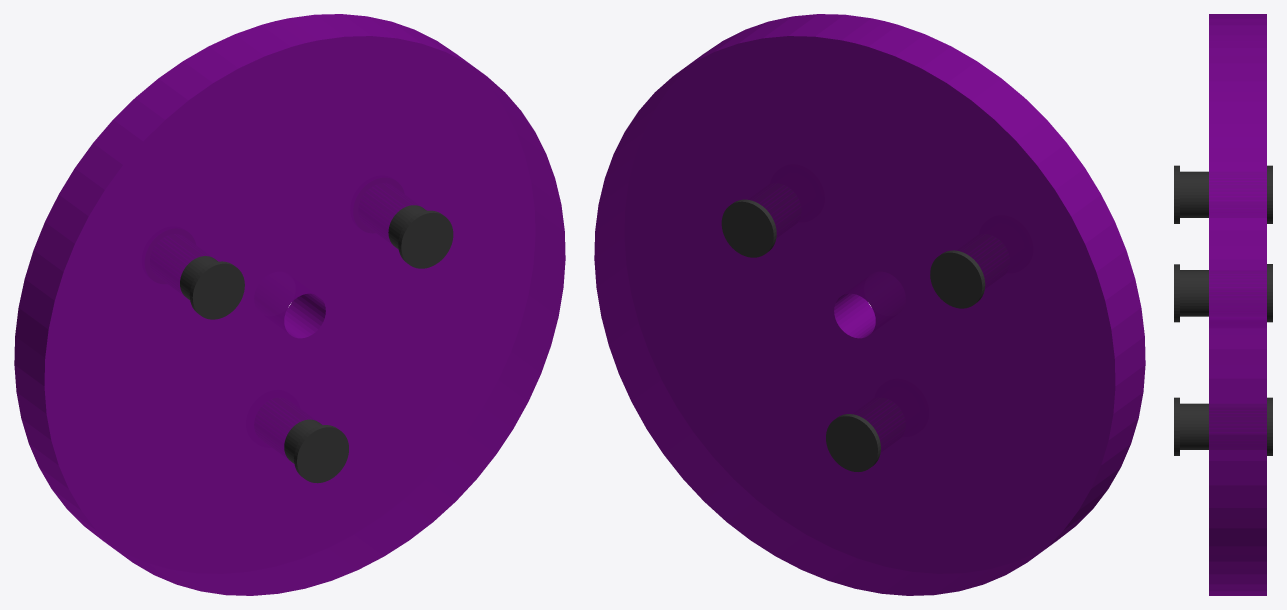
Rendered from BASEMOVIL.fbx.
3 views of the same model, side by side, from view 1: azimuth 30°, elevation 25°; view 2: azimuth 150°, elevation 25°; view 3: azimuth 270°, elevation 25° (orthographic). The views are drawn at different scales.
Parts seen in each view (by area): view 1: basemovil_-_basemovil-1, basemovil_-_tapon1-3, basemovil_-_tapon1-1, basemovil_-_tapon1-2; view 2: basemovil_-_basemovil-1, basemovil_-_tapon1-3, basemovil_-_tapon1-1, basemovil_-_tapon1-2; view 3: basemovil_-_basemovil-1, basemovil_-_tapon1-3, basemovil_-_tapon1-2, basemovil_-_tapon1-1.
Boxes of the visible parts, bbox=[...] form: basemovil_-_basemovil-1: bbox=[14, 14, 565, 595]; basemovil_-_tapon1-3: bbox=[388, 205, 453, 268]; basemovil_-_tapon1-1: bbox=[180, 256, 244, 319]; basemovil_-_tapon1-2: bbox=[284, 419, 348, 483]; basemovil_-_basemovil-1: bbox=[594, 14, 1145, 595]; basemovil_-_tapon1-3: bbox=[721, 199, 776, 257]; basemovil_-_tapon1-1: bbox=[930, 250, 985, 308]; basemovil_-_tapon1-2: bbox=[826, 414, 880, 471]; basemovil_-_basemovil-1: bbox=[1209, 14, 1266, 595]; basemovil_-_tapon1-3: bbox=[1174, 264, 1272, 322]; basemovil_-_tapon1-2: bbox=[1174, 397, 1272, 455]; basemovil_-_tapon1-1: bbox=[1174, 165, 1272, 223].
Size of the model in its own units: 99.97 by 100 by 17.
